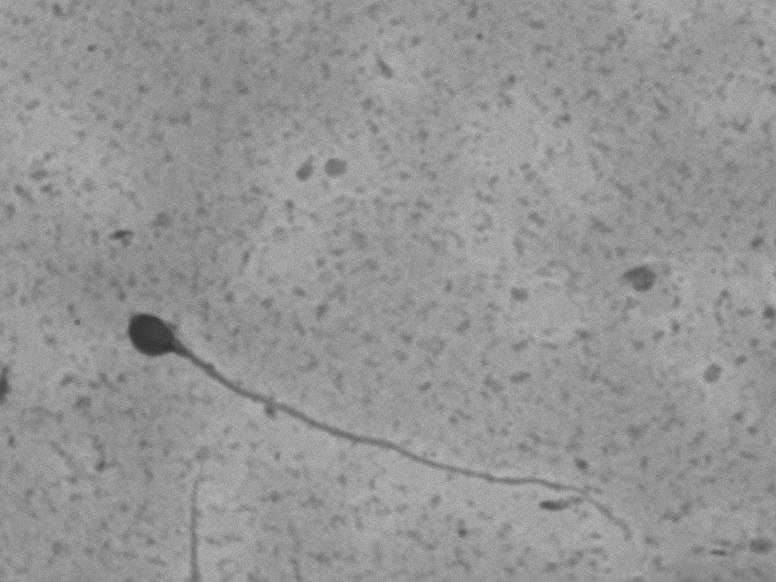Abnormal: (98, 279, 652, 550)
